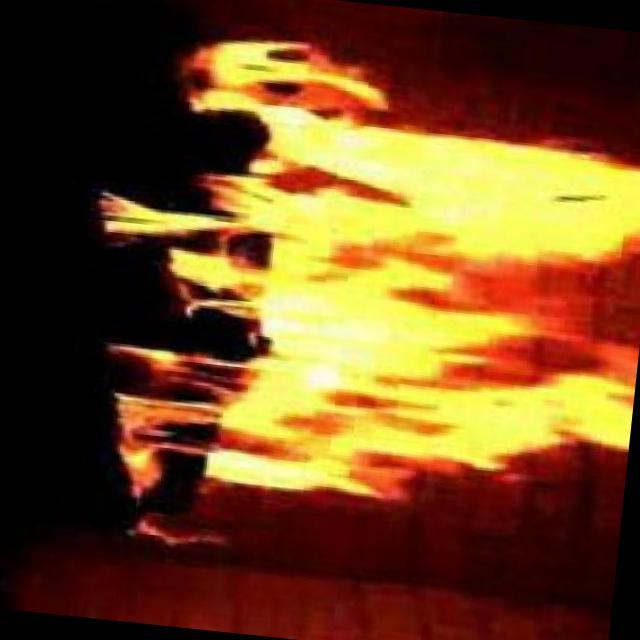Fire: (145, 46, 640, 500)
